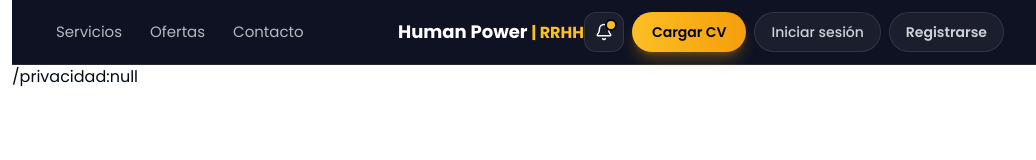
LandingHeader · links de sección › fuera de la landing, el wordmark también navega a / con scrollTo: home
Click the link with aria-label "inicio": click(491, 32) [398, 18, 584, 46]
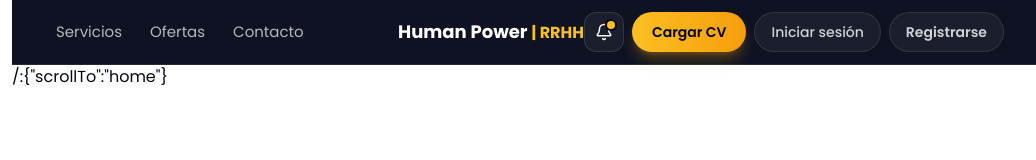
Now the text with test id "loc" reads "/:{\"scrollTo\":\"home\"}", box [12, 65, 168, 88]
